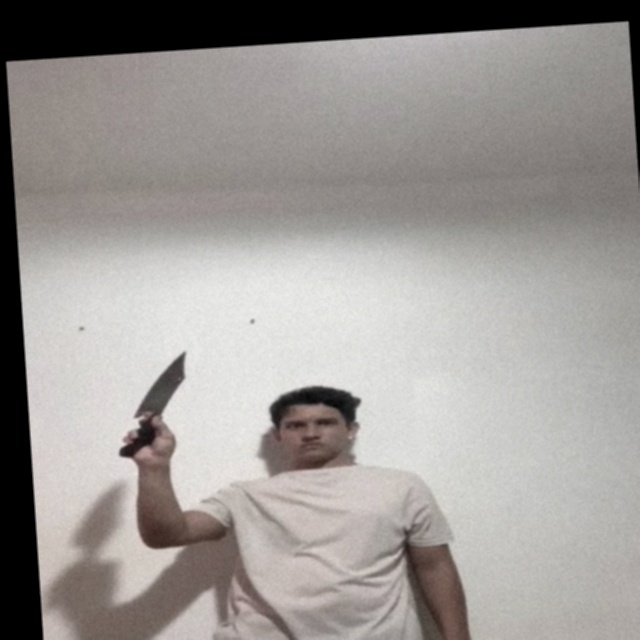Sharp-Object: (135, 353, 191, 411)
